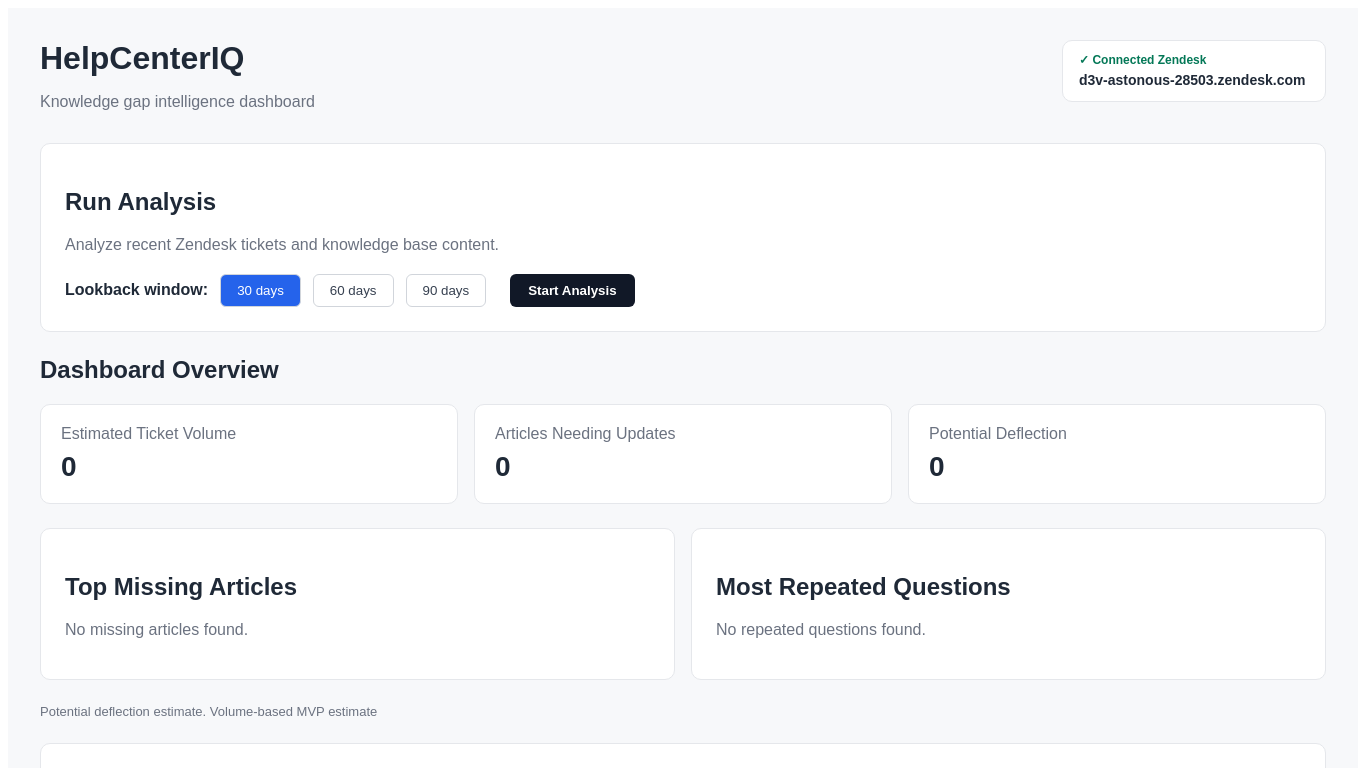
Scenario: DashboardPage › handles a 409 by displaying the already-active analysis run
Check: the heading "Dashboard Overview" is shown, box x1=40 y1=356 x2=279 y2=383
Click the button "Start Analysis".
click(572, 290)  # box x1=510 y1=274 x2=635 y2=307
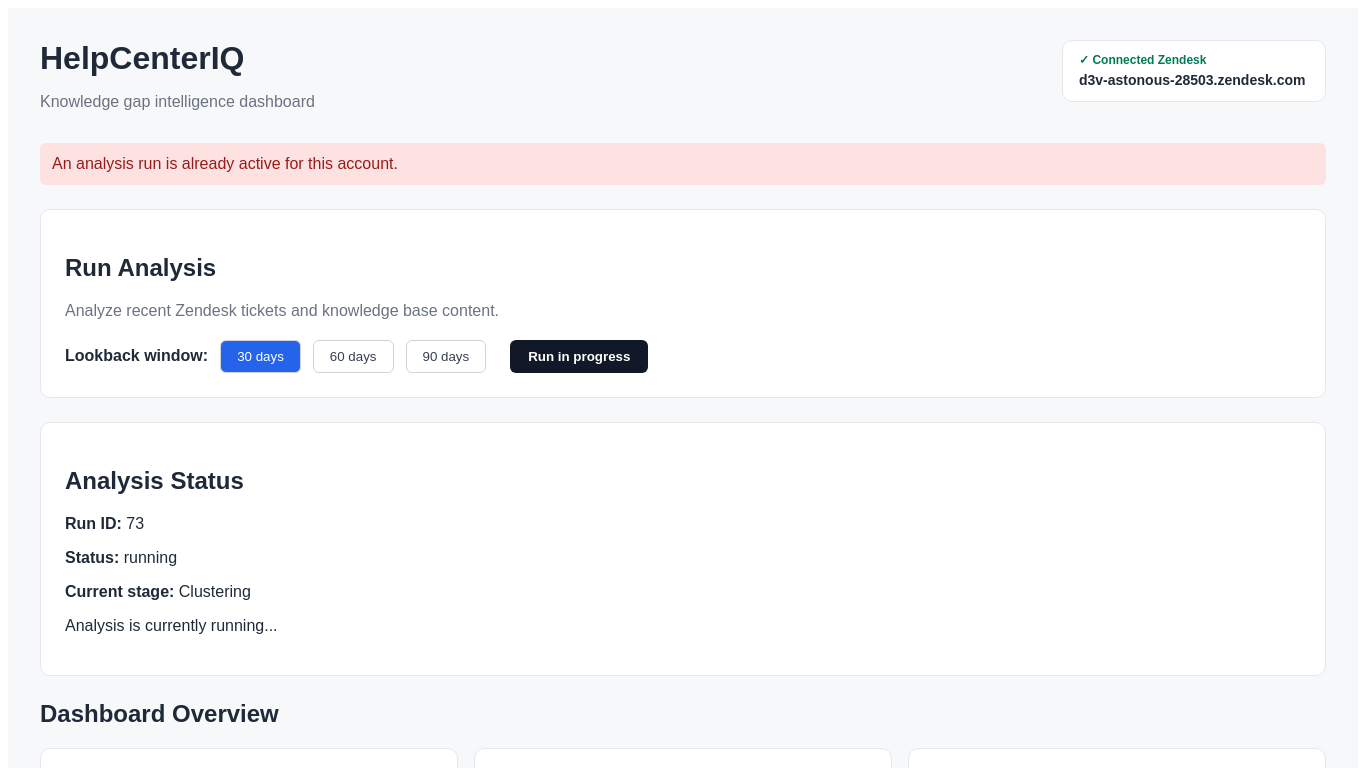
Check: the text "An analysis run is already active for this account." is shown, box x1=40 y1=143 x2=1326 y2=185
Check: the heading "Analysis Status" is shown, box x1=65 y1=467 x2=244 y2=494
Check: the text "Analysis is currently running..." is shown, box x1=65 y1=617 x2=278 y2=634
